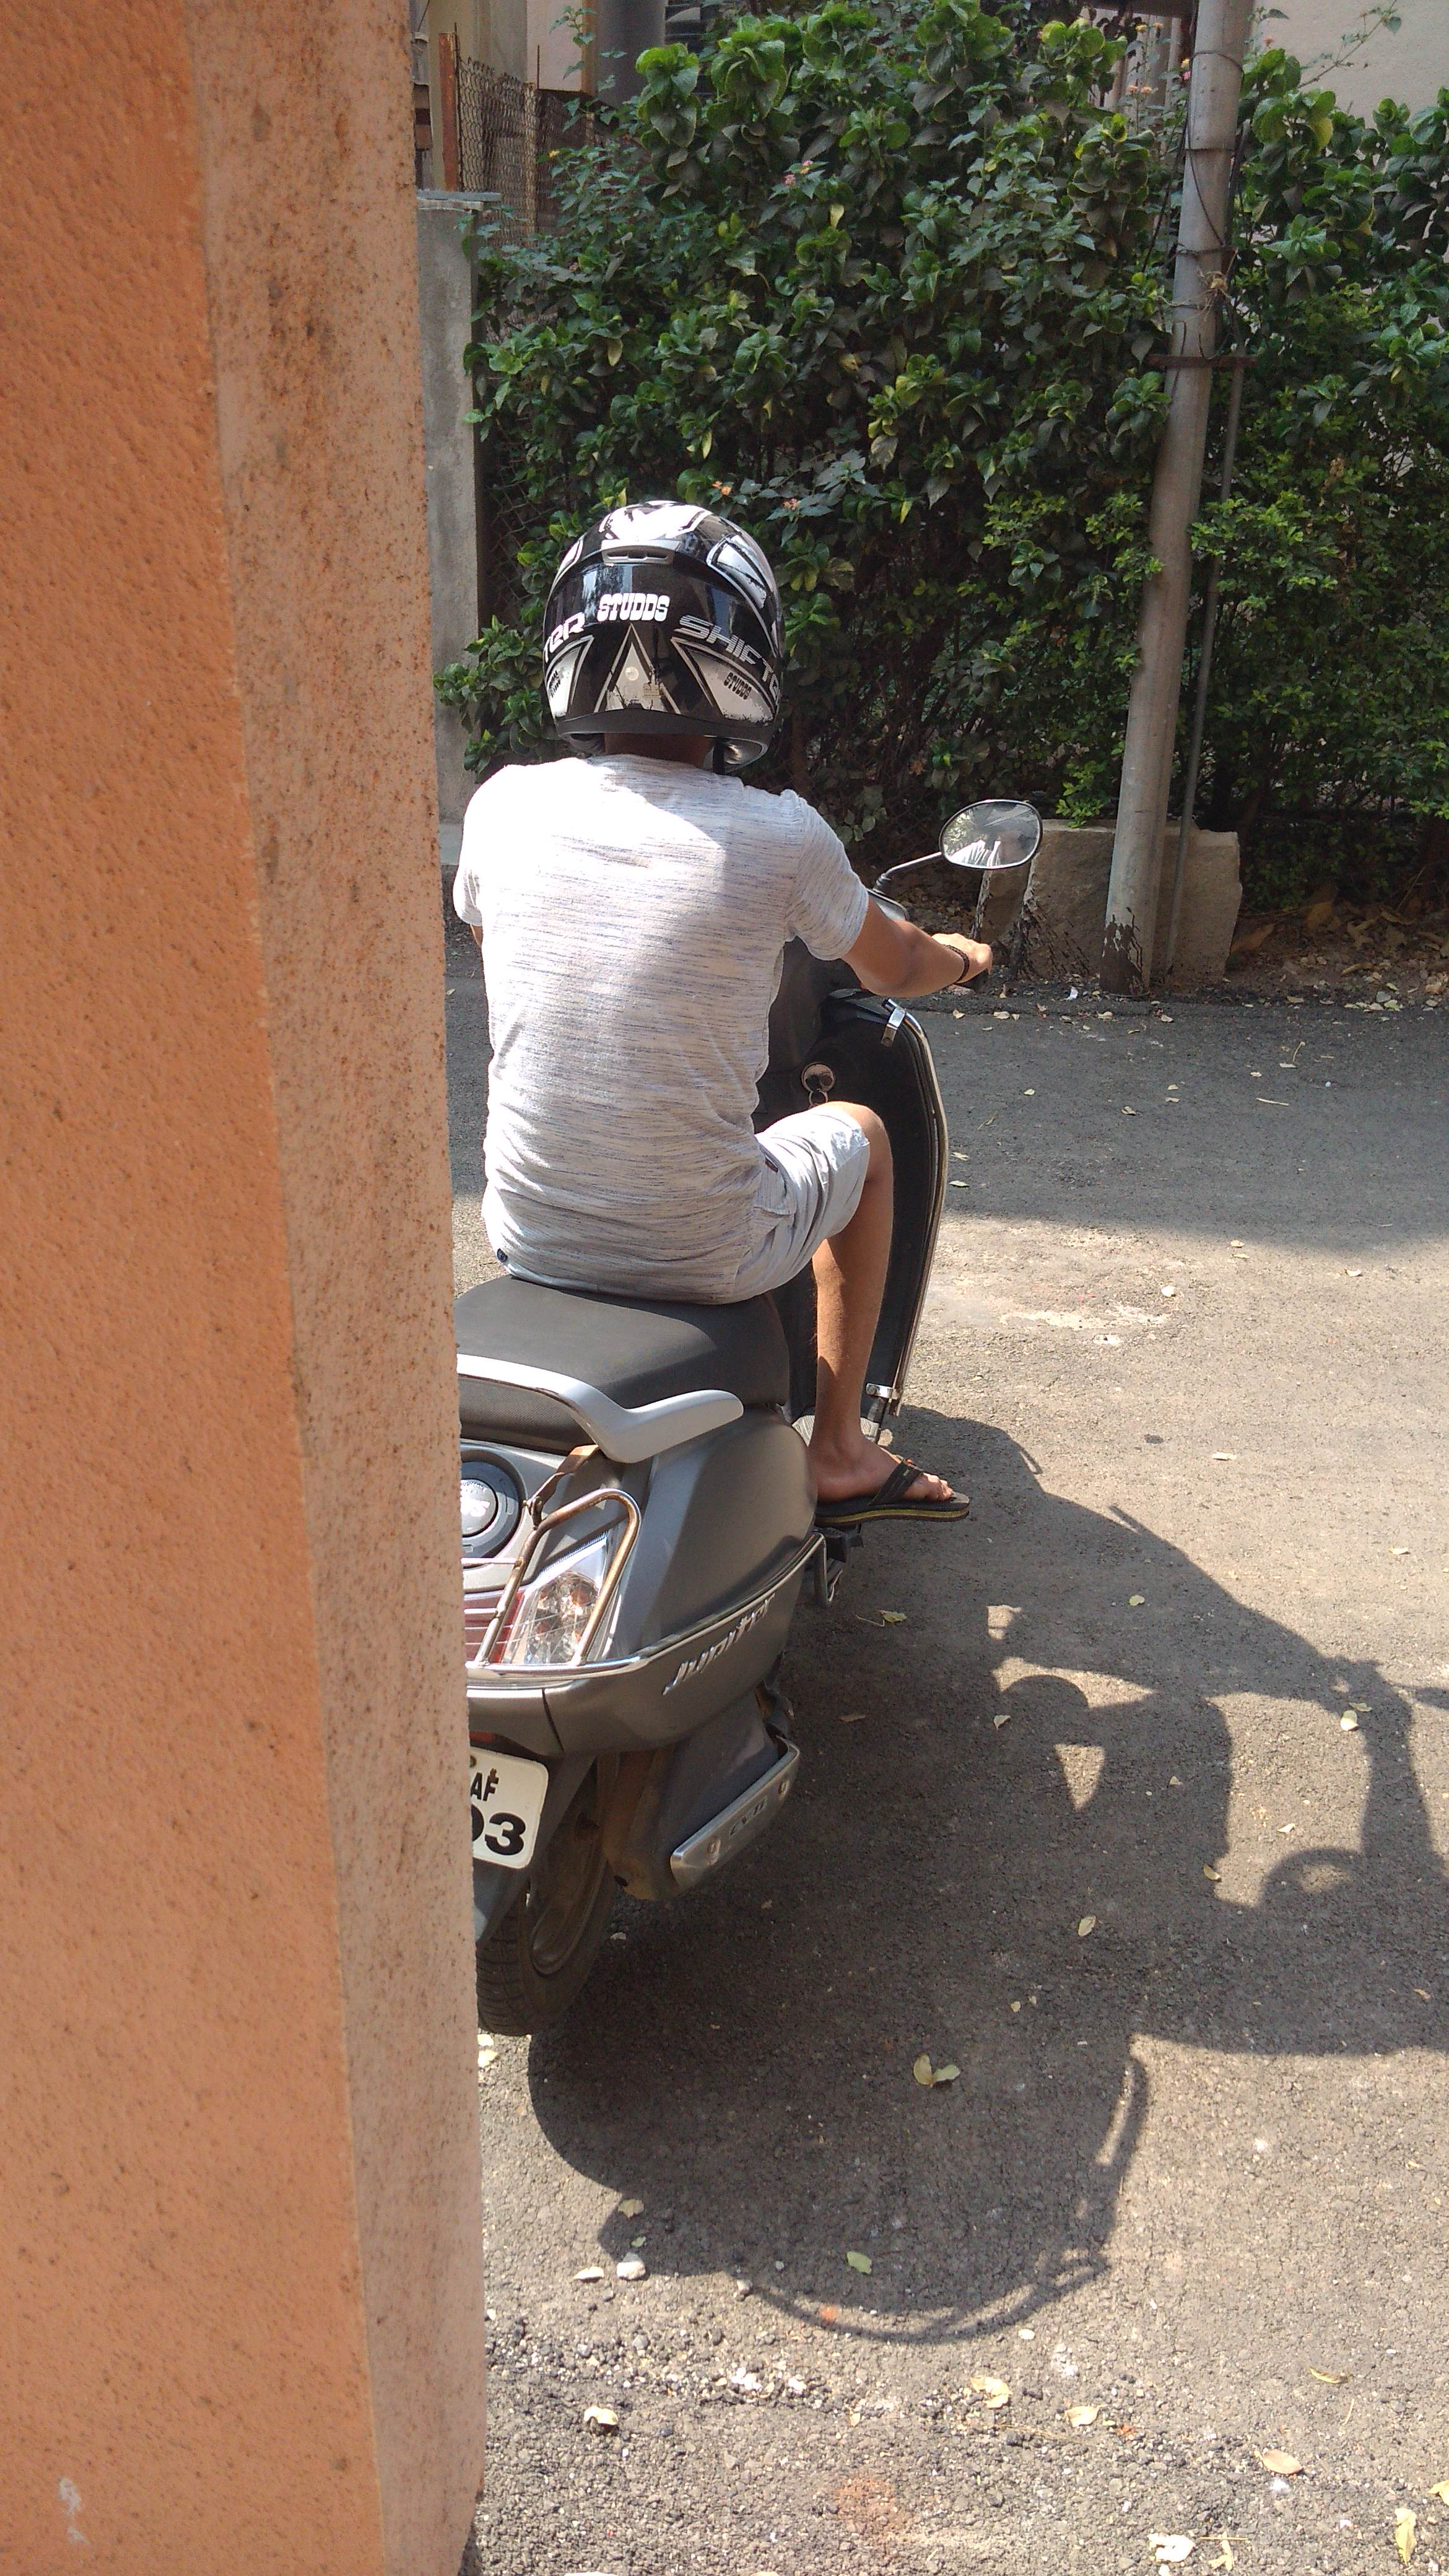helmet: (444, 487, 1023, 1626)
